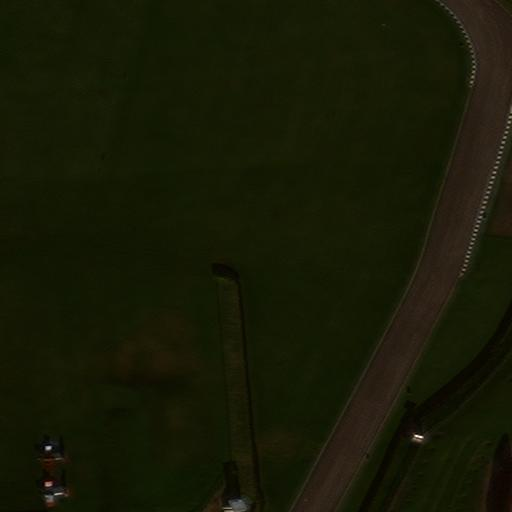Small Civil Transport: (38, 481, 68, 506), (36, 445, 63, 469)
